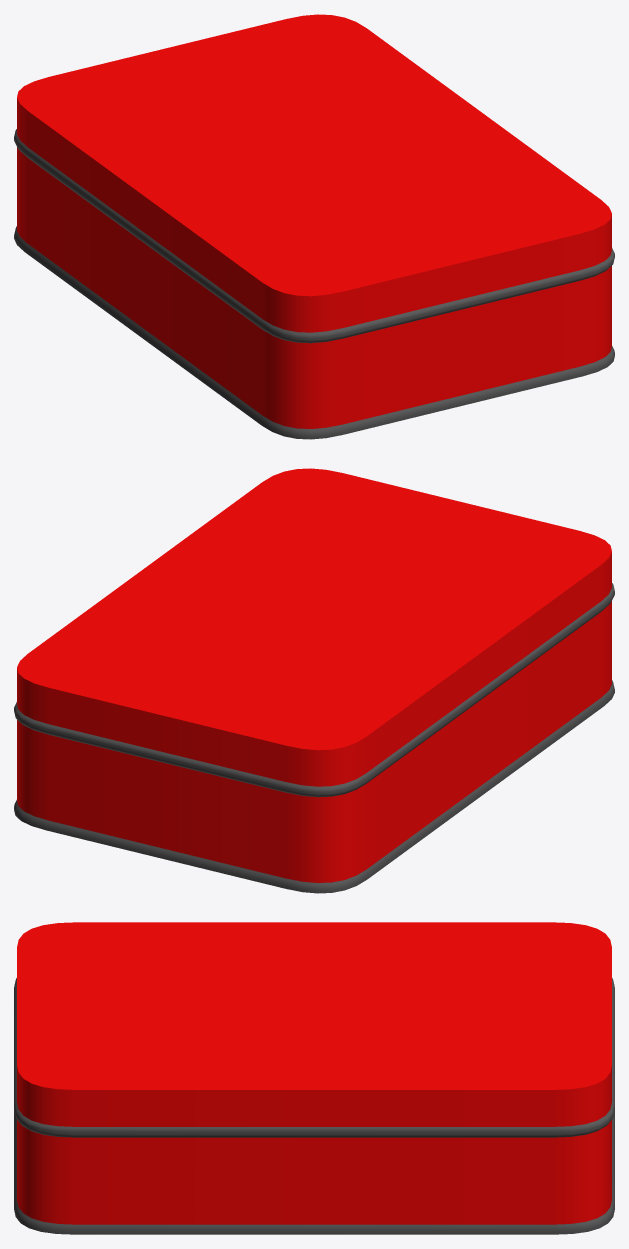
Rendered from A_NJ_PharmacyBox_003.fbx.
3 views of the same model, one above another, from view 1: azimuth 30°, elevation 25°; view 2: azimuth 150°, elevation 25°; view 3: azimuth 270°, elevation 25° (orthographic).
Visible parts, largest first — view 1: PharmacyBox; view 2: PharmacyBox; view 3: PharmacyBox.
Boxes of the visible parts, box(x1,y1,x2,y2) form: PharmacyBox: box(14, 14, 614, 439); PharmacyBox: box(14, 468, 614, 893); PharmacyBox: box(14, 922, 614, 1234).
Bounding box in the file's own units: 20.2 × 8 × 30.3.
